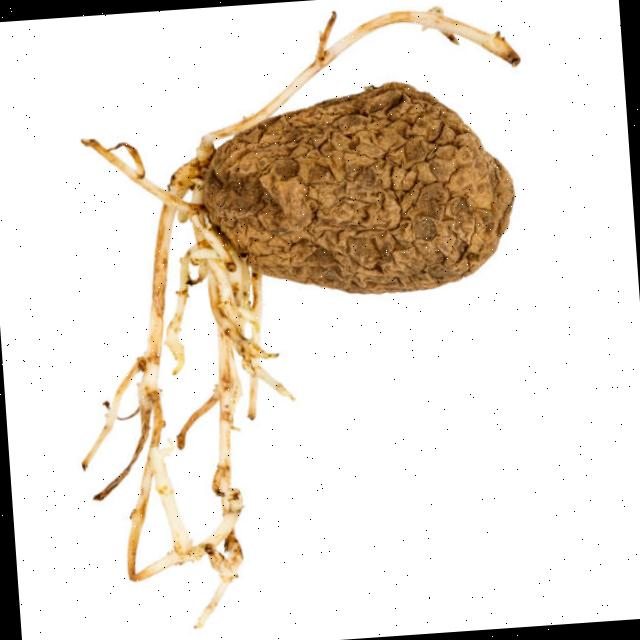Sprouted potato: (64, 64, 540, 550)
